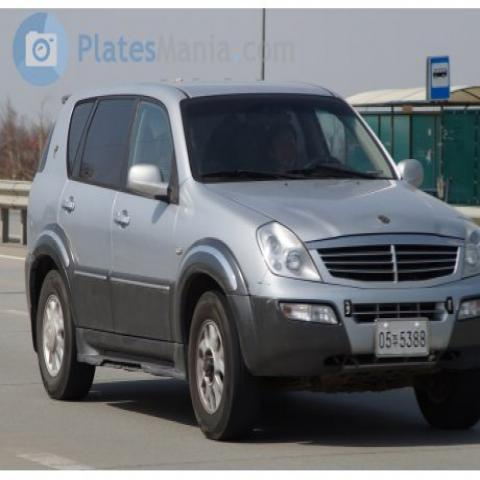LP: (368, 310, 435, 365)
